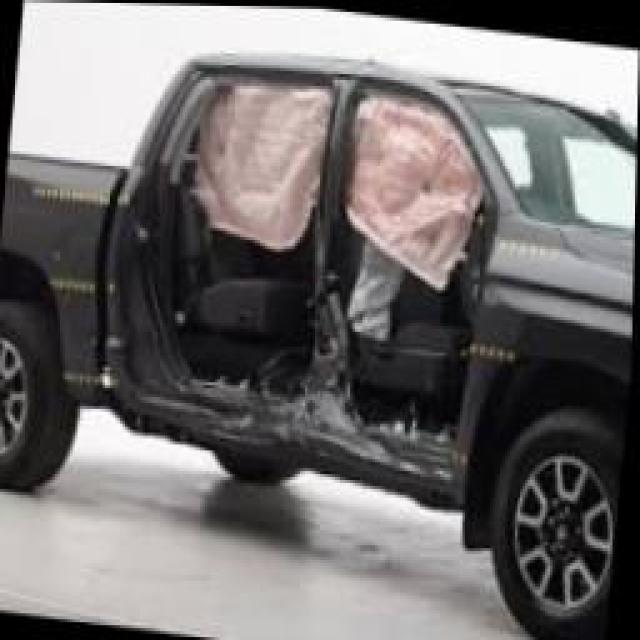Door: (146, 70, 351, 434), (312, 83, 482, 464)
